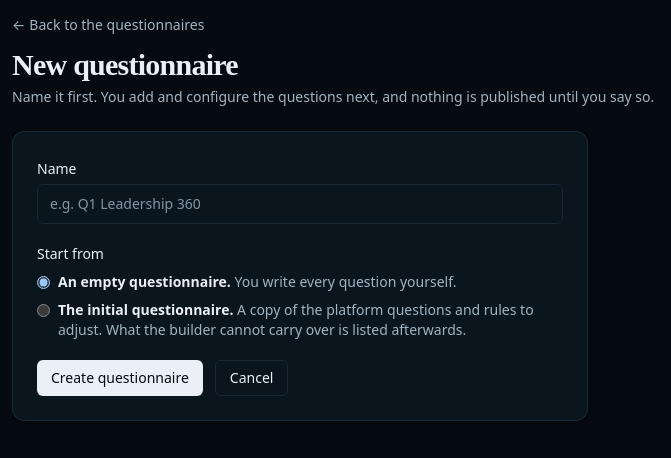
Test: NewQuestionnairePage › asks for a name without sending anything
This screenshot has width=671, height=458.
Click the button "Create questionnaire". click: (120, 378)
box: [37, 360, 203, 396]
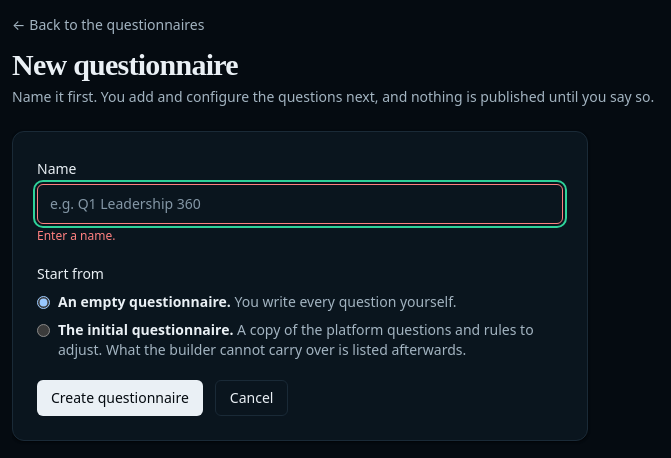
Now the text "Enter a name." is shown, box [37, 227, 116, 244]
